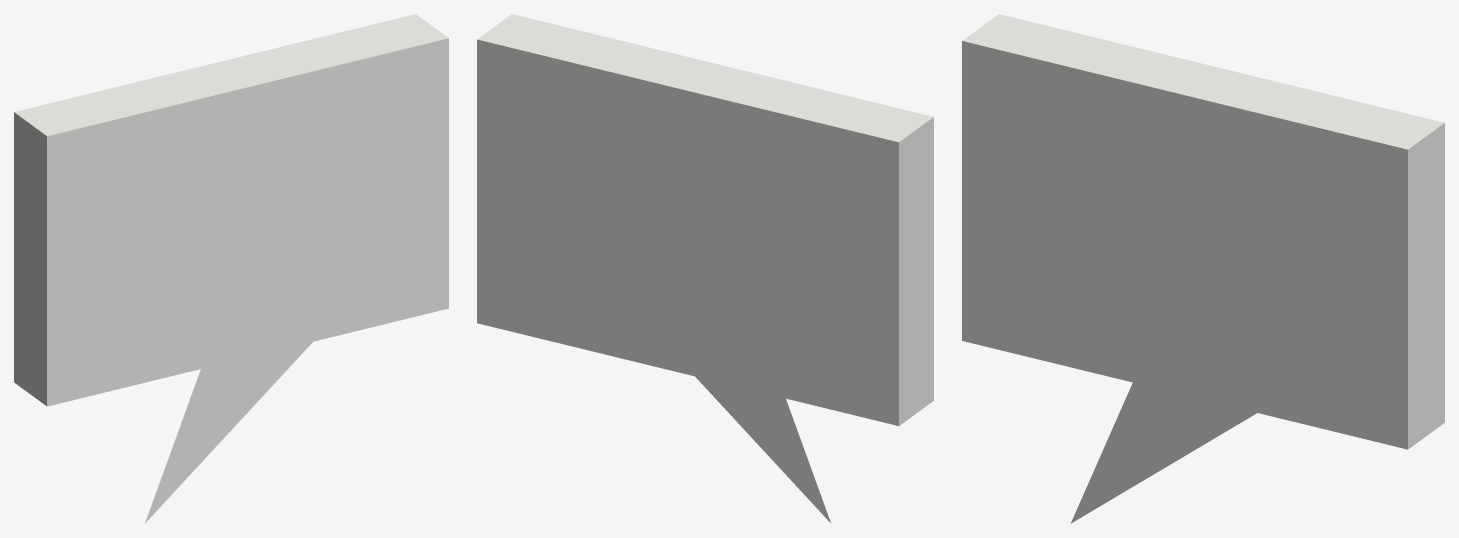
Rendered from speech.glb.
The picture shows the model from 3 angles, left to right: view 1: azimuth 30°, elevation 25°; view 2: azimuth 150°, elevation 25°; view 3: azimuth 330°, elevation 25°; orthographic projection. The views are drawn at different scales.
Visible parts, largest first — view 1: speech; view 2: speech; view 3: speech.
Part boxes in pixels (x1,y1,x2,y2): speech: [14, 14, 448, 523]; speech: [477, 14, 933, 522]; speech: [962, 14, 1444, 523].
Bounding box in the file's own units: 0.7 × 0.685 × 0.1.
1 material, 1 textured.
